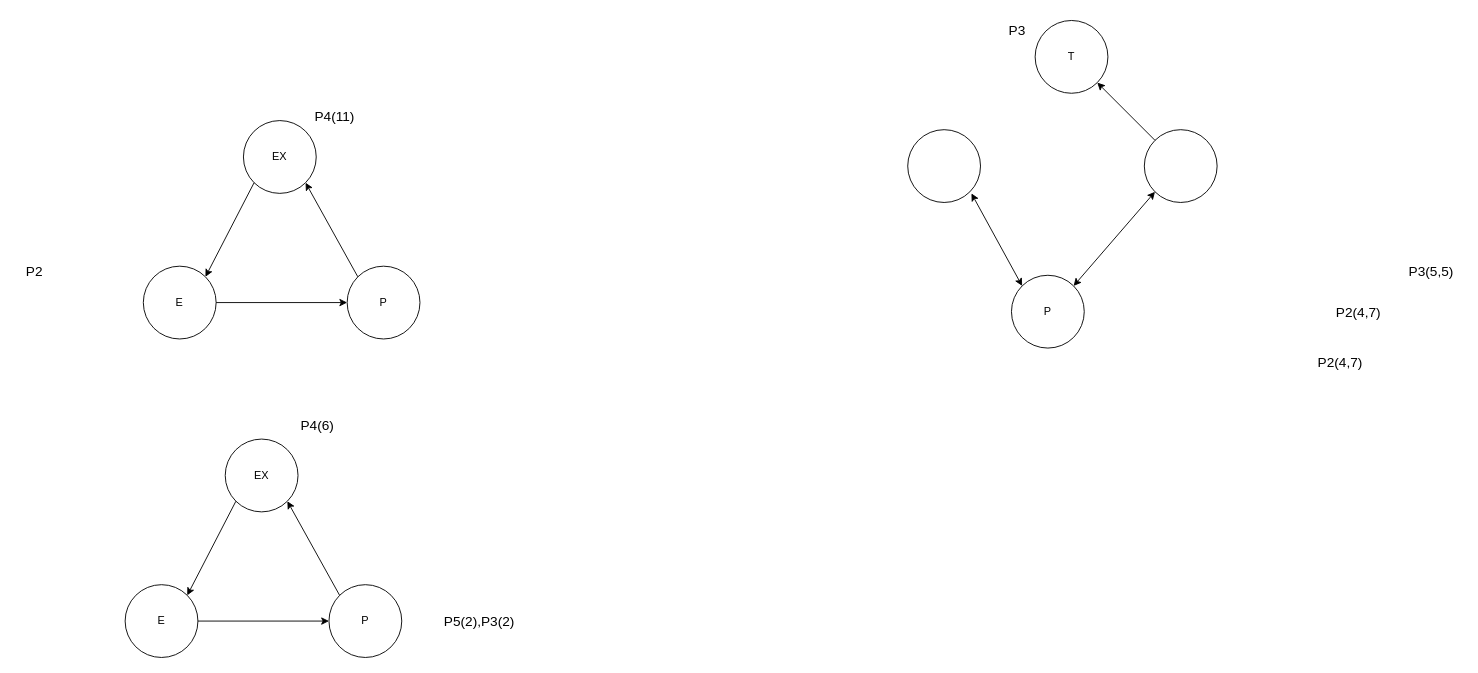
Image size: 1478x673. Some labels were removed from this diagram. The centre of each missing label's shape, as x and y in pixels:
"CPU1 EX" belongs at (944,165).
"CPU2 EX" belongs at (1180,165).
